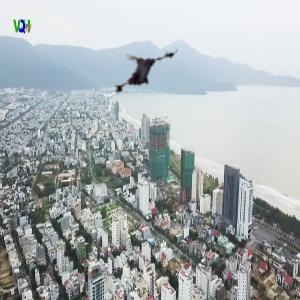drone: (96, 27, 187, 118)
